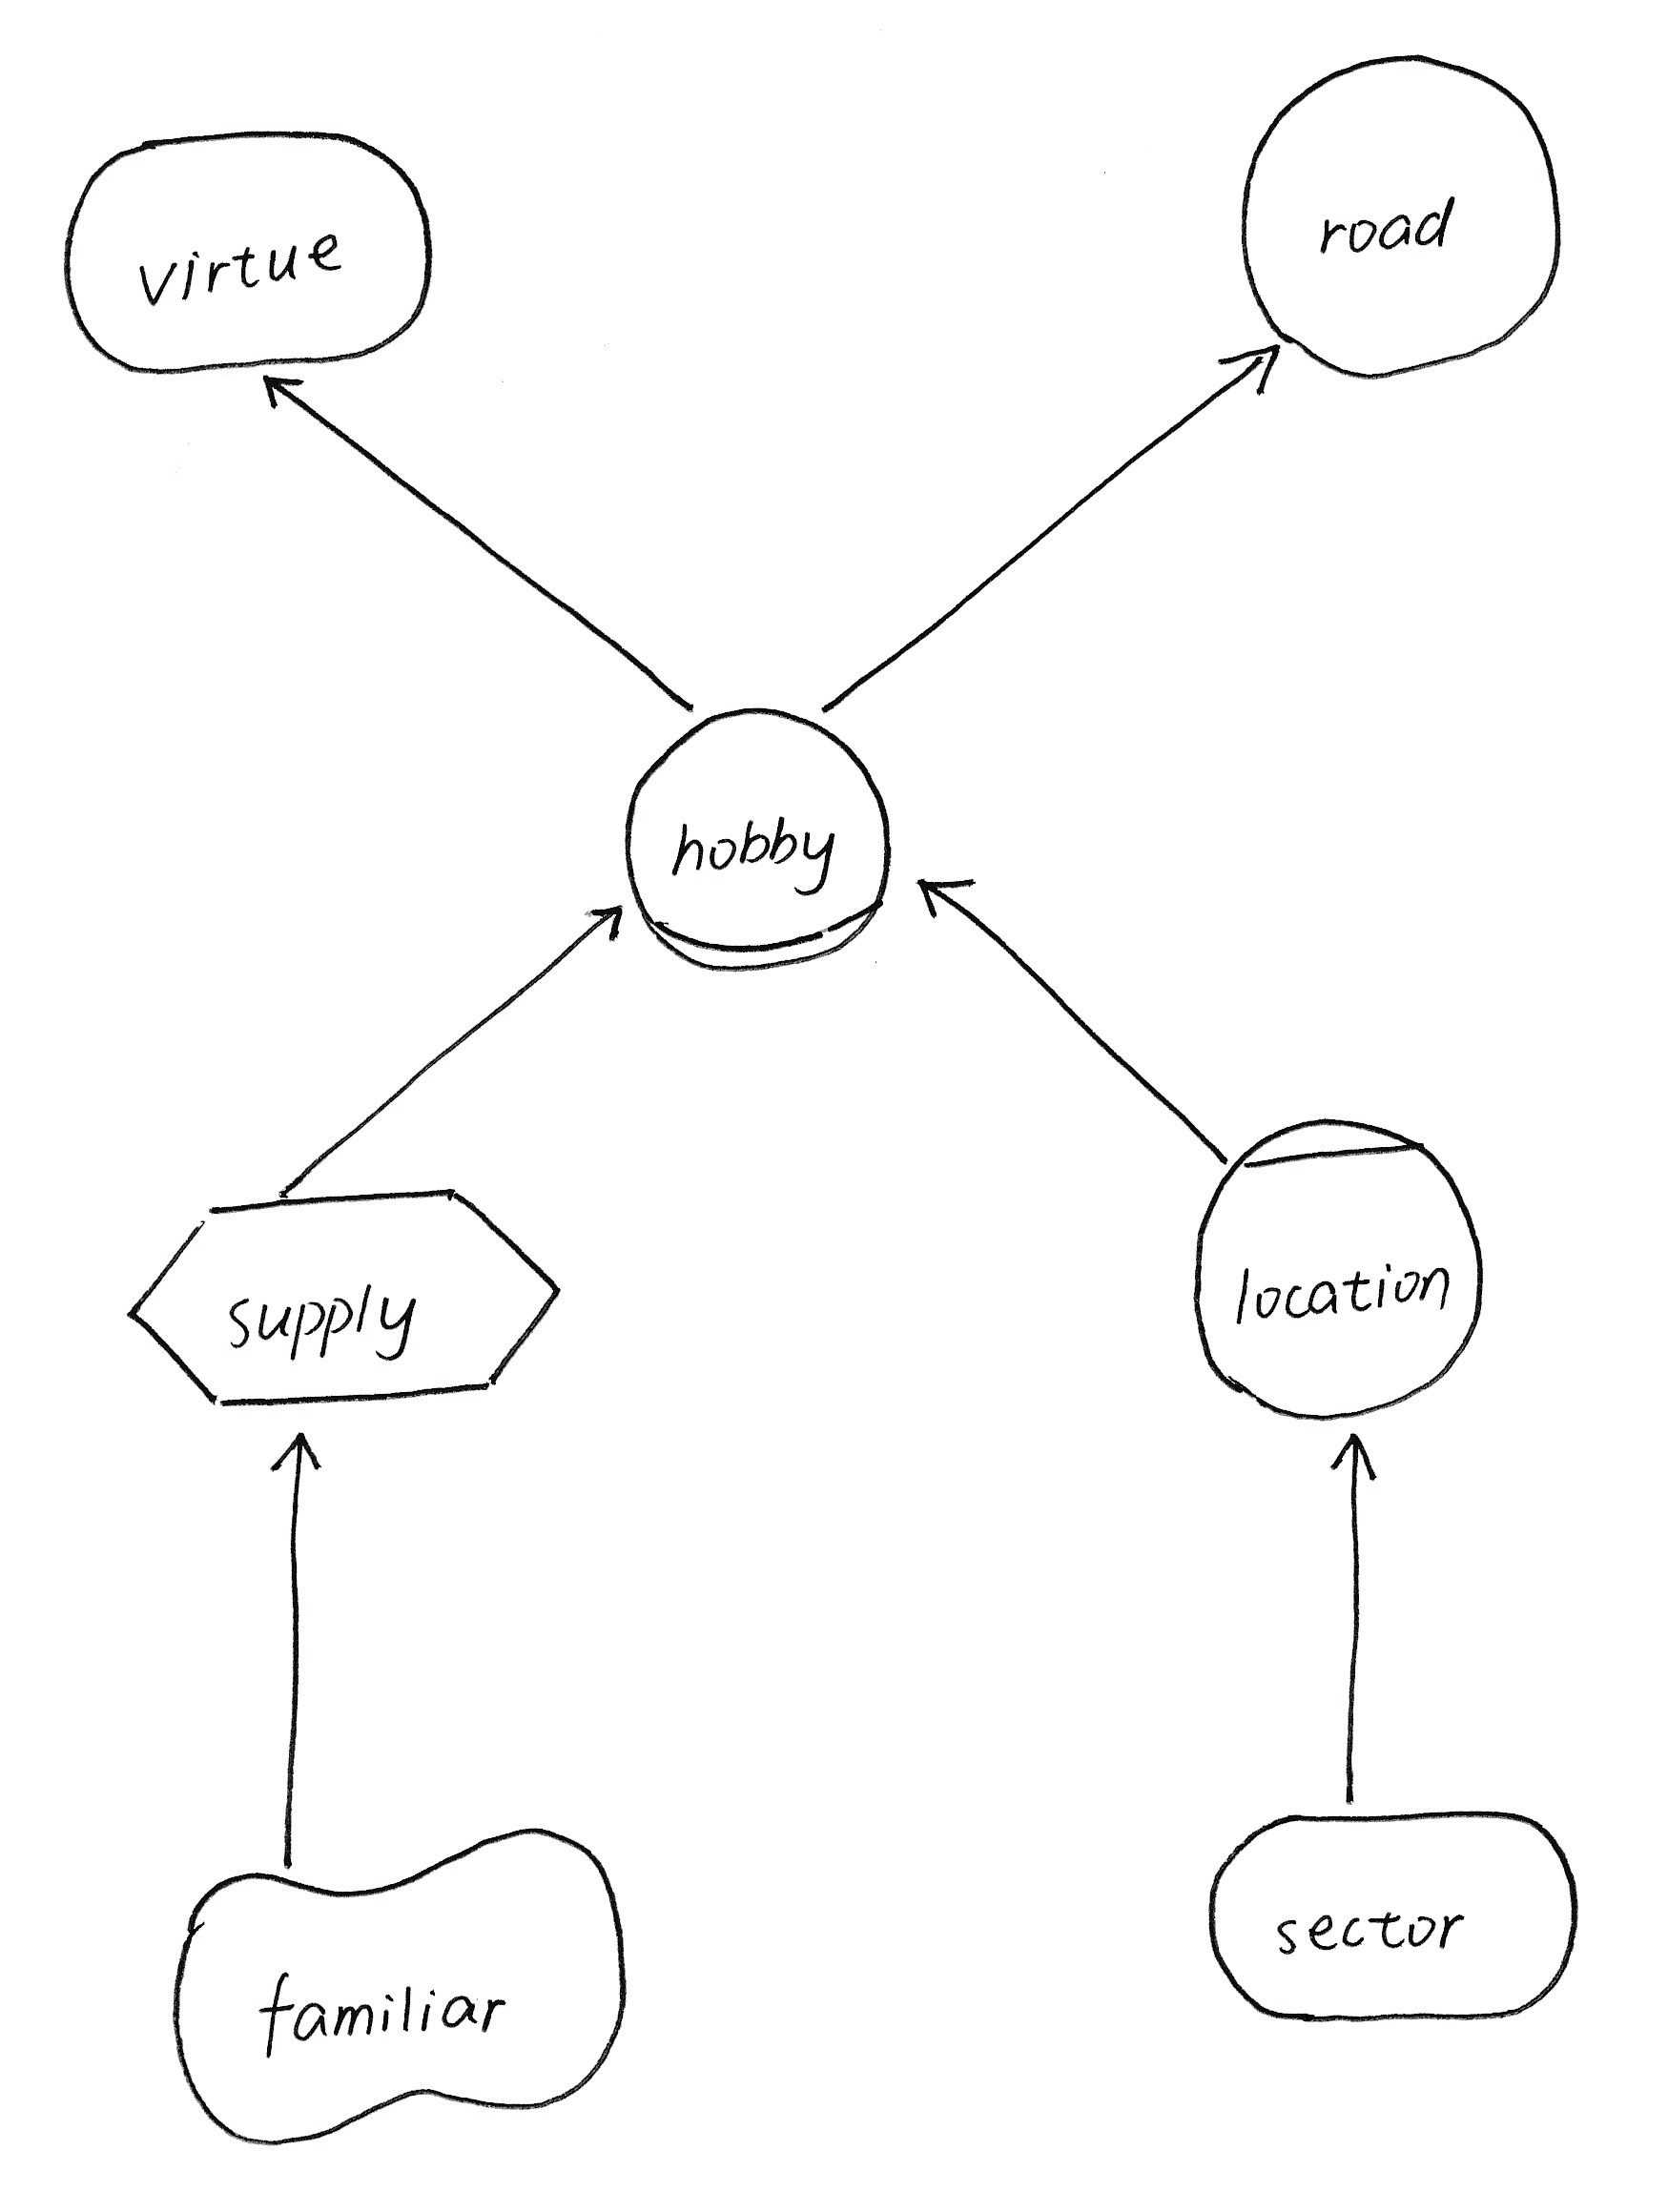actor: (1221, 33, 1579, 389)
agent: (1174, 1091, 1505, 1438)
arrow: (1200, 319, 1297, 410), (897, 853, 997, 939), (252, 1415, 356, 1496), (1314, 1413, 1396, 1510), (245, 352, 329, 427), (573, 886, 648, 953)
goal: (46, 95, 456, 401), (1190, 1792, 1596, 2044)
quality: (145, 1802, 654, 2158)
role: (610, 687, 916, 995)
task: (119, 1166, 582, 1434)
